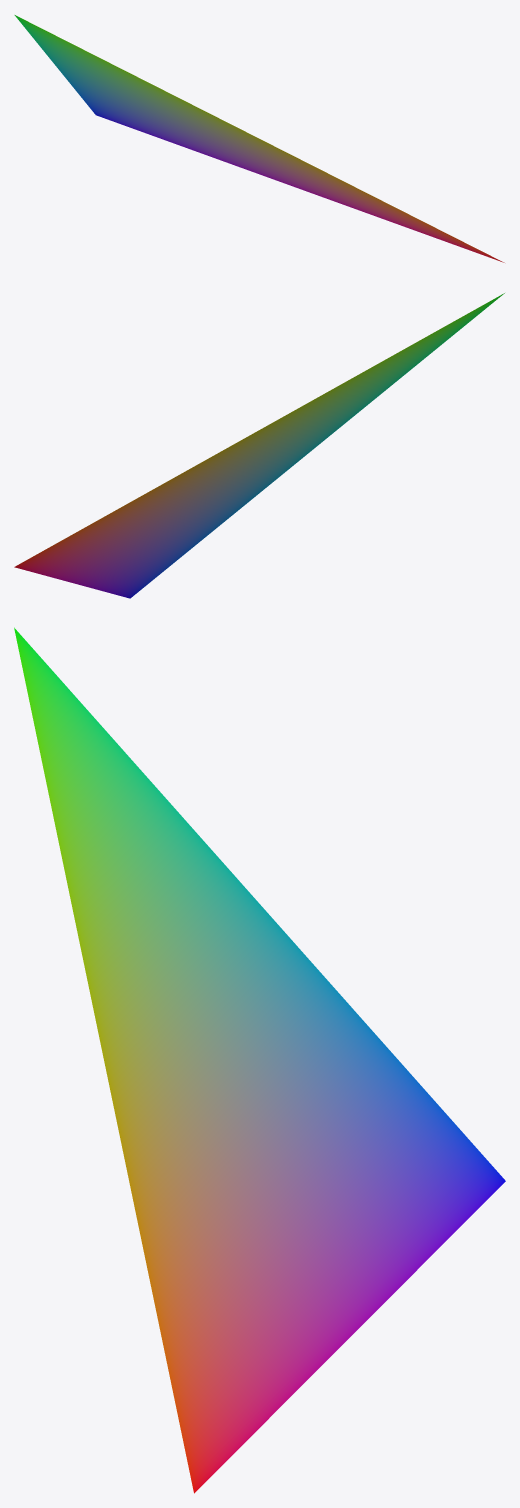
The model's file is face_cleaning_conquest_72.obj.
3 renders of one model, top to bottom at view 1: azimuth 30°, elevation 25°; view 2: azimuth 150°, elevation 25°; view 3: azimuth 270°, elevation 25°, orthographic. The views are drawn at different scales.
Bounding box in the file's own units: 0.9272 × 0.691 × 0.5781.
